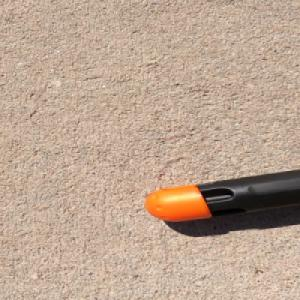PlasticPart: (143, 167, 300, 223)
